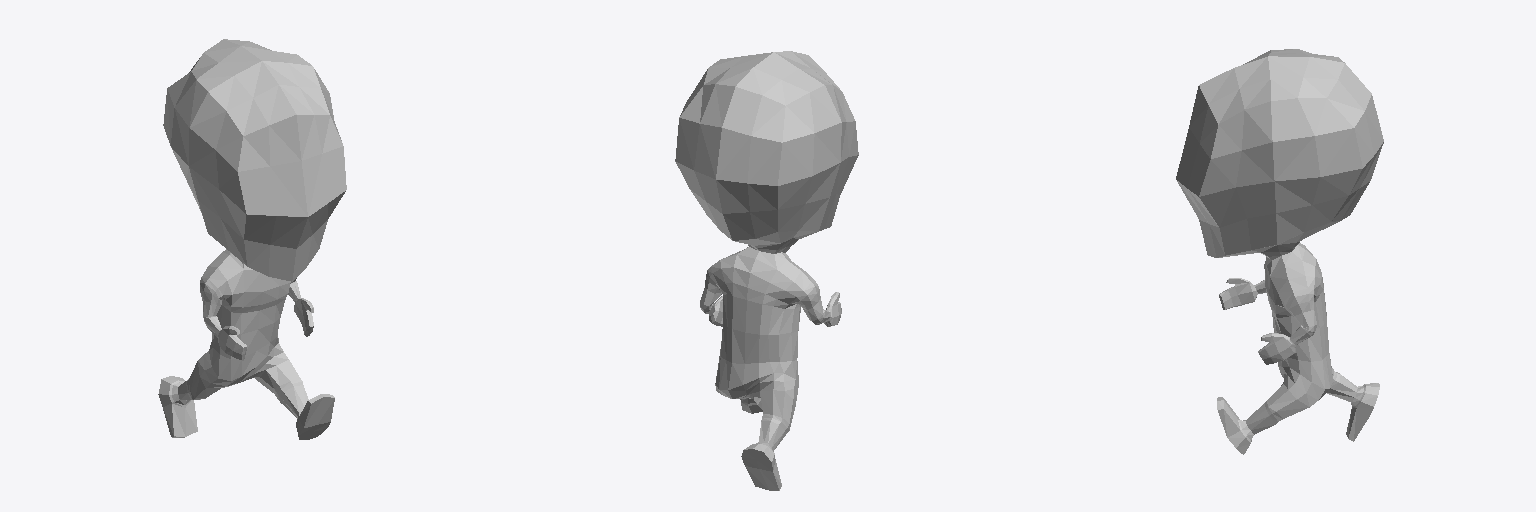
The model's file is char_000013.obj.
3 renders of one model, left to right at view 1: azimuth 30°, elevation 25°; view 2: azimuth 150°, elevation 25°; view 3: azimuth 270°, elevation 25°, orthographic.
Visible parts, largest first — view 1: lp_guy_mesh_Cube; view 2: lp_guy_mesh_Cube; view 3: lp_guy_mesh_Cube.
Part boxes in pixels (x1,y1,x2,y2): lp_guy_mesh_Cube: (158,39,346,439); lp_guy_mesh_Cube: (675,51,858,490); lp_guy_mesh_Cube: (1176,49,1383,454).
Bounding box in the file's own units: 0.7344 × 1.99 × 0.9444.